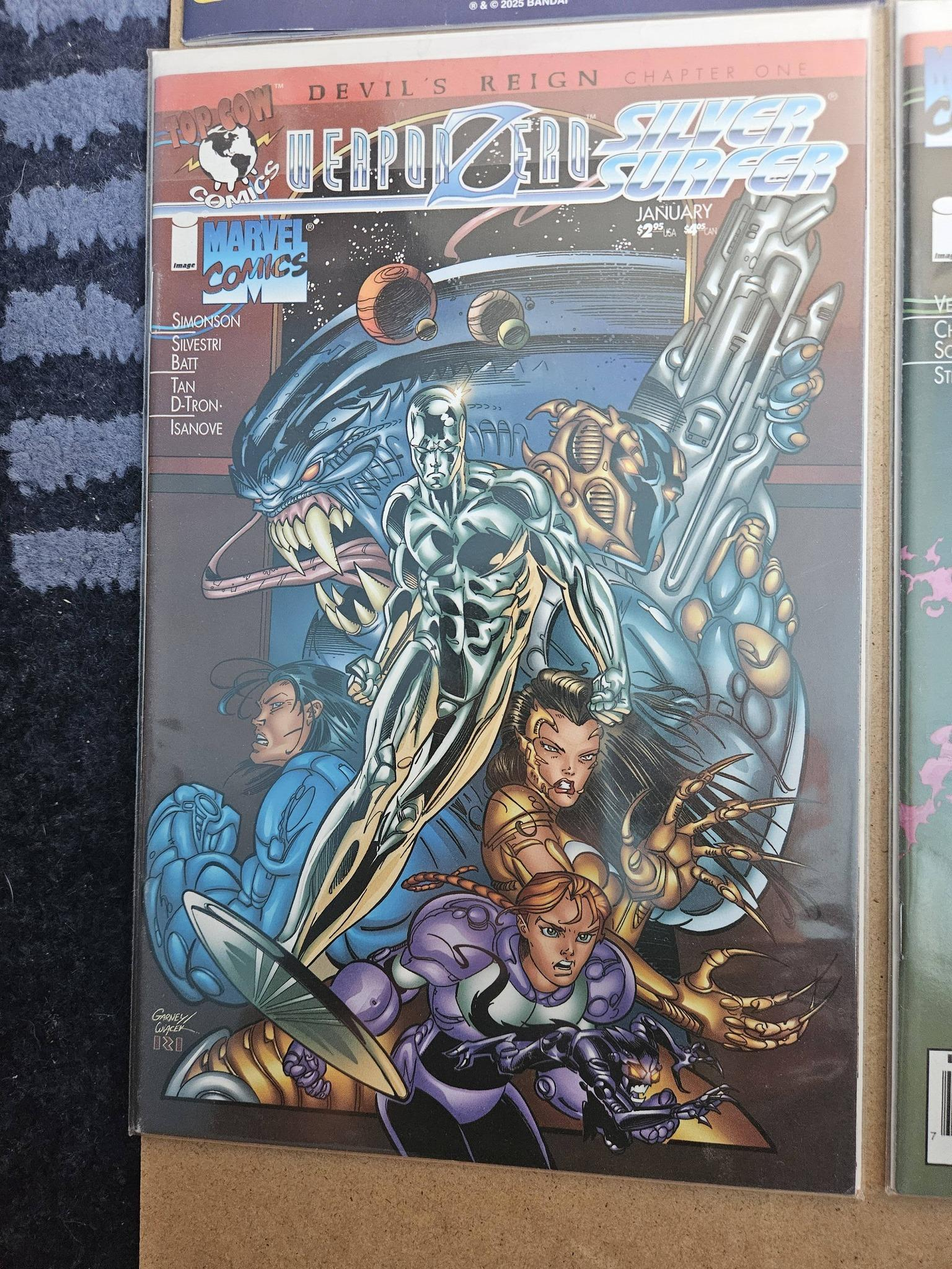comic: (131, 0, 878, 1192)
